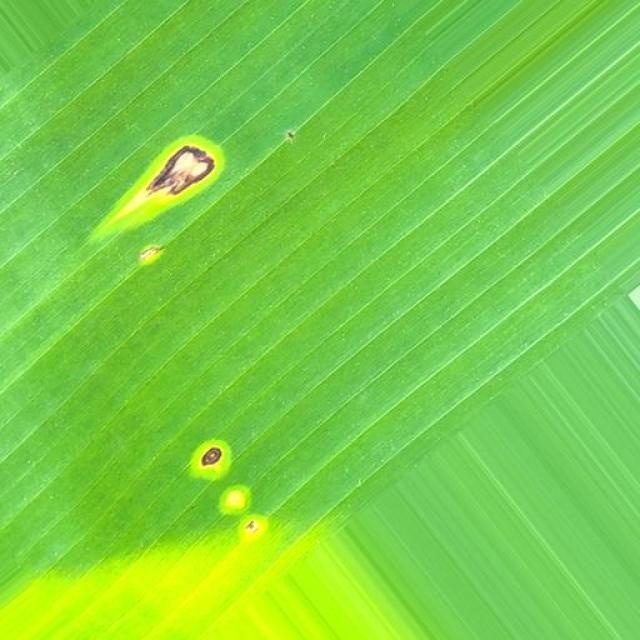Early_rust: (119, 114, 271, 287), (174, 410, 314, 577)
